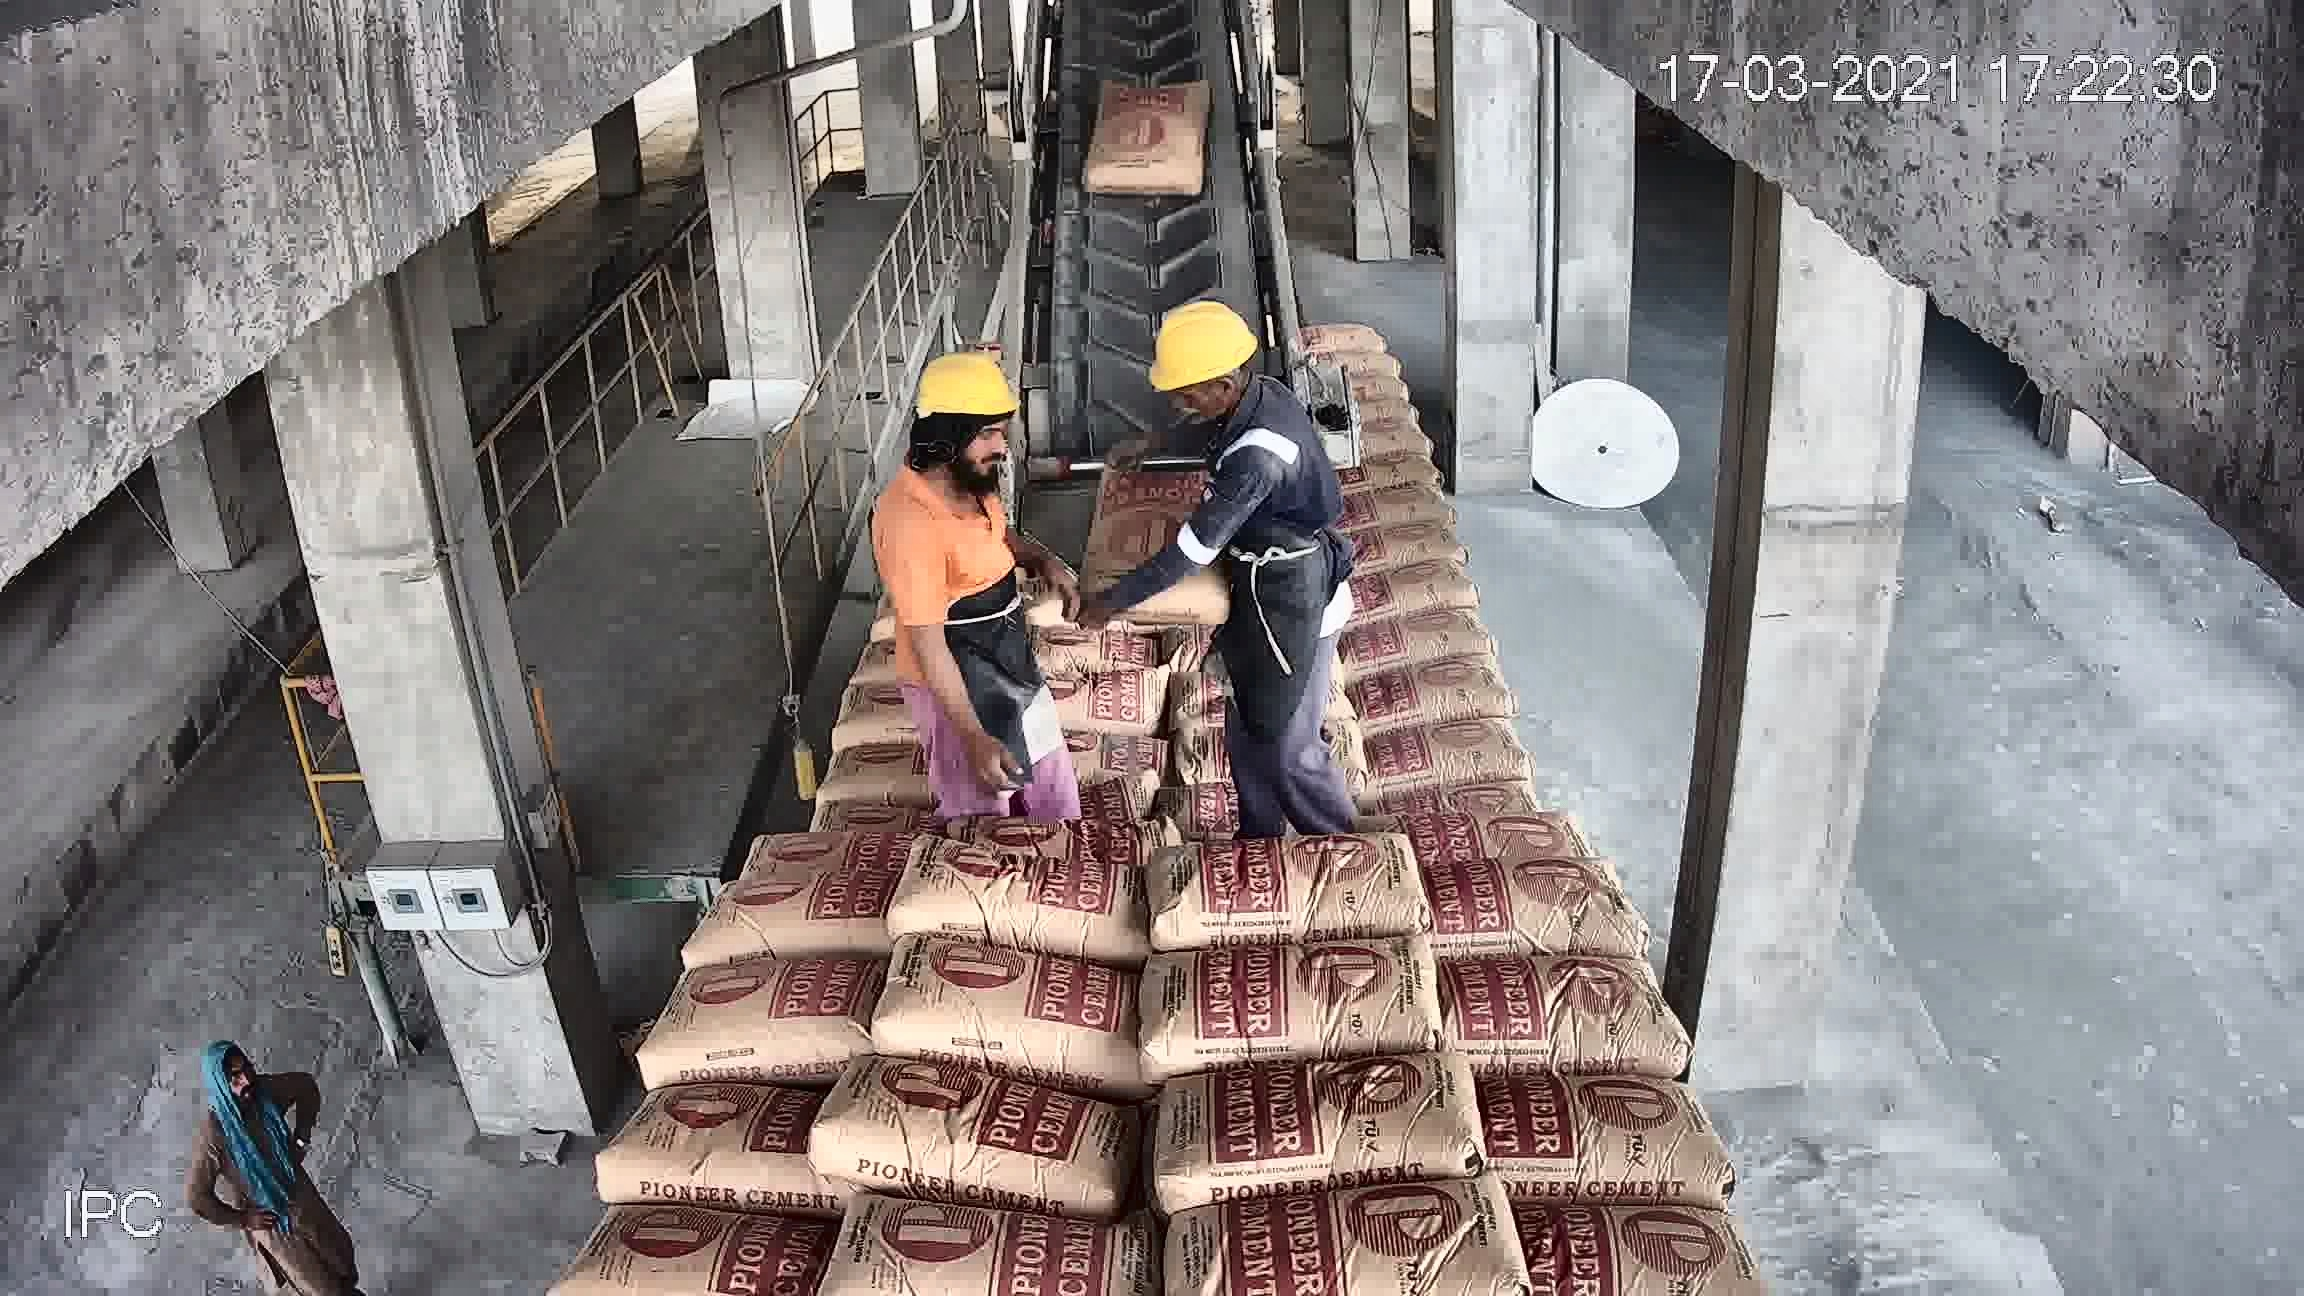bag_h: (1146, 1041, 1472, 1203), (1173, 1143, 1513, 1296), (1112, 937, 1454, 1089), (802, 1093, 1139, 1207), (1423, 929, 1658, 1086), (1152, 829, 1434, 953), (864, 956, 1139, 1078), (581, 1070, 840, 1193), (1150, 731, 1388, 858), (660, 968, 878, 1093), (902, 851, 1149, 953), (815, 1218, 1139, 1294), (1161, 649, 1372, 763), (1502, 1076, 1695, 1199), (695, 853, 894, 970), (908, 760, 1147, 855), (1432, 850, 1644, 954), (1404, 760, 1608, 867), (1552, 1201, 1760, 1296), (574, 1204, 823, 1283), (726, 777, 889, 877), (1374, 685, 1546, 779), (918, 680, 1138, 747), (756, 699, 916, 788), (1355, 555, 1480, 622), (1364, 601, 1513, 654), (859, 581, 992, 633), (839, 630, 965, 684), (1374, 650, 1518, 695), (1356, 519, 1473, 571), (1359, 483, 1470, 532), (1339, 451, 1445, 502), (1347, 411, 1434, 468), (843, 680, 927, 715)
bag_v: (1089, 55, 1199, 153)
belt: (1032, 14, 1255, 500)
